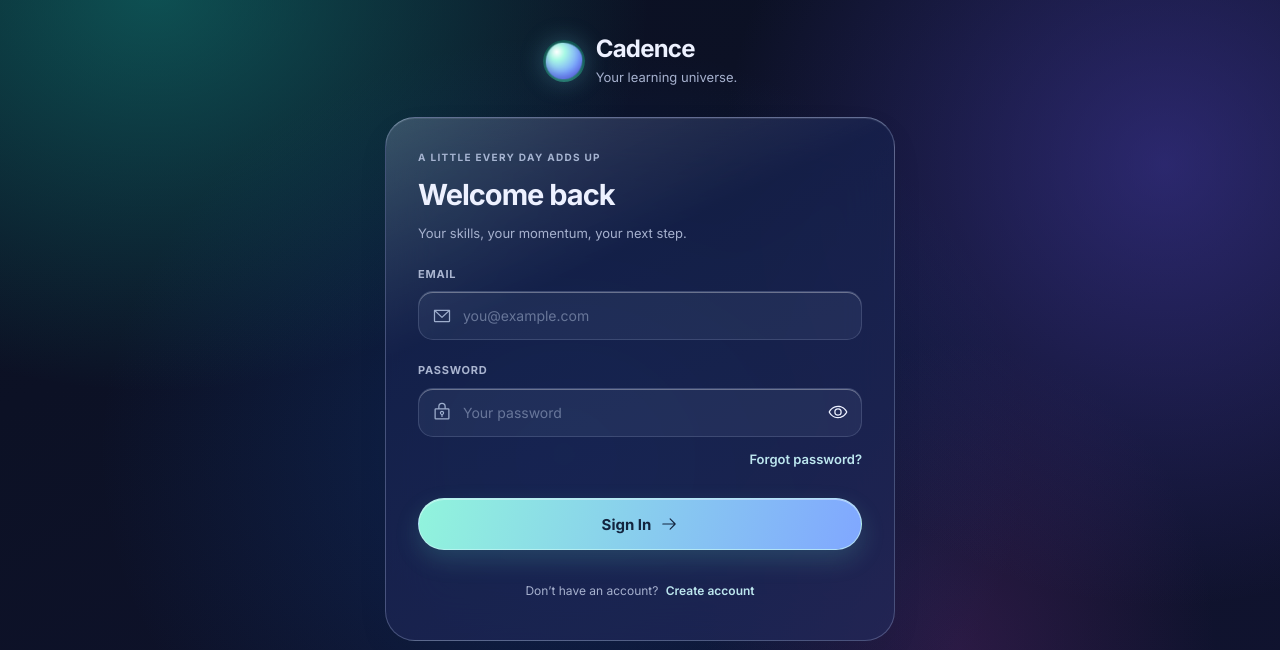
Test: Supabase authentication flows › rejects mismatching signup passwords before an auth request
This screenshot has width=1280, height=650.
Expected: the button "Sign In" is shown, [418,498,862,550]
Click the button "Create account": (710, 591) [666,574,755,608]
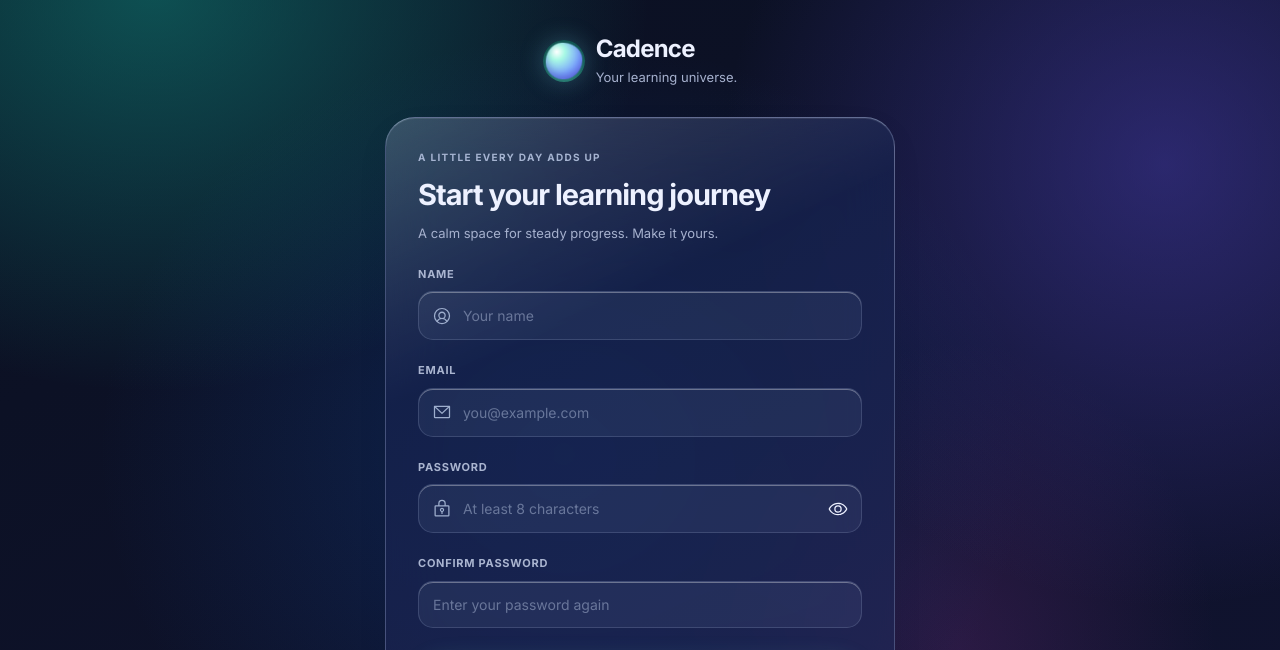
In the field labelled "NAME": (640, 316) [418,291,862,340], type "User"
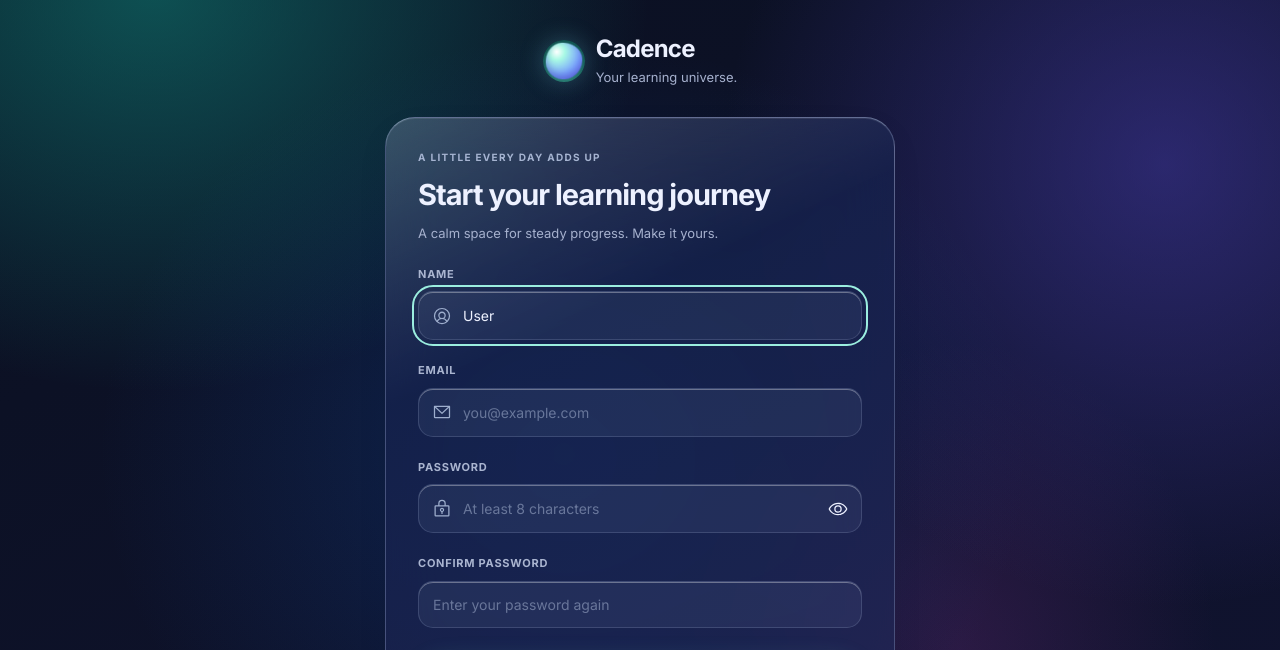
In the field labelled "EMAIL": (640, 412) [418,388,862,437], type "user@example.test"
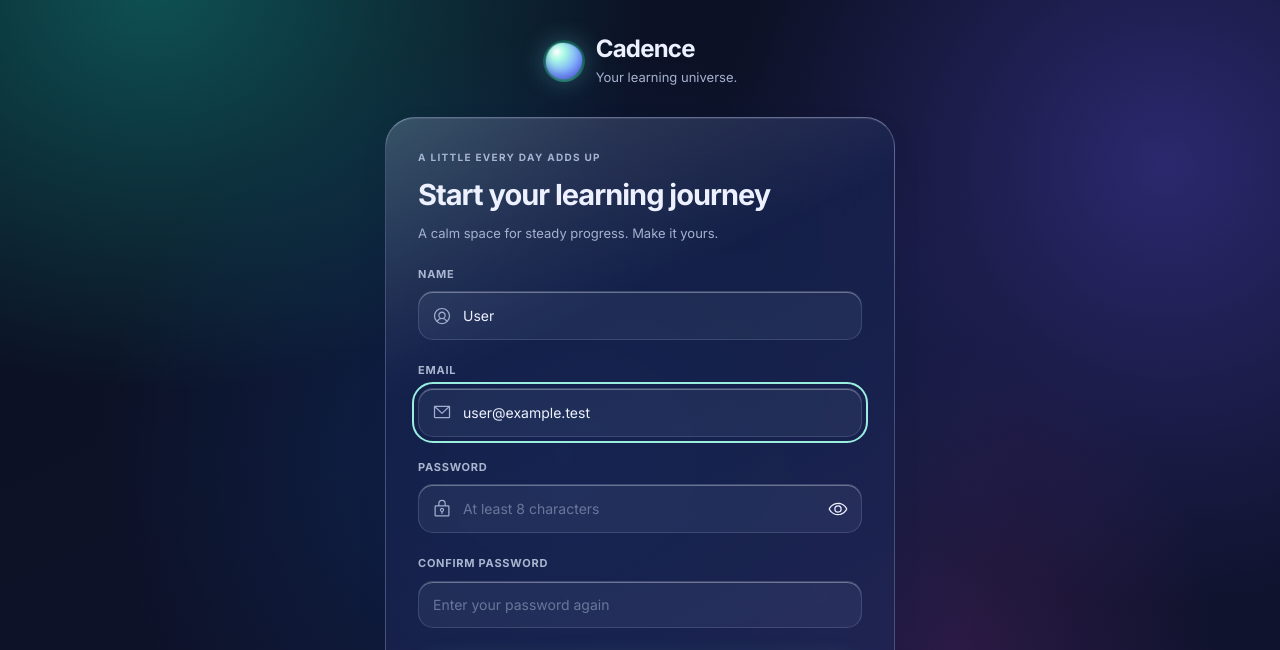
In the password field labelled "PASSWORD": (640, 509) [418,484,862,533], type "secure-password"
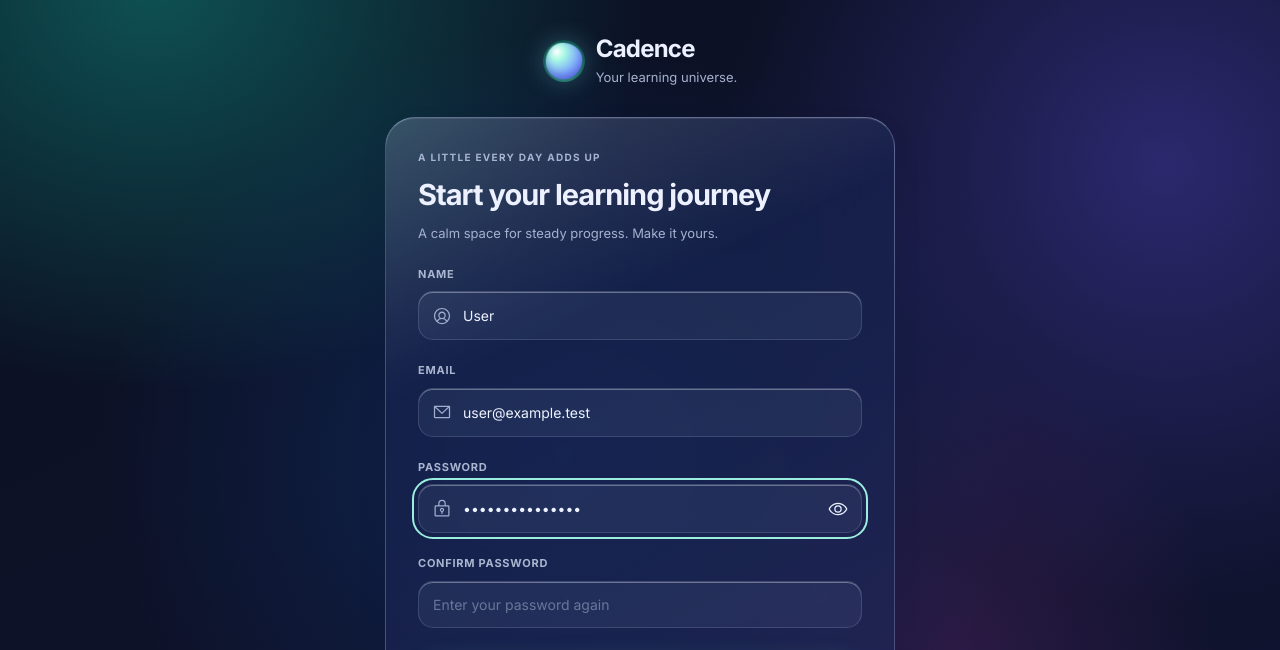
In the password field labelled "CONFIRM PASSWORD": (640, 604) [418,581,862,628], type "different-password"
(page scrolled)
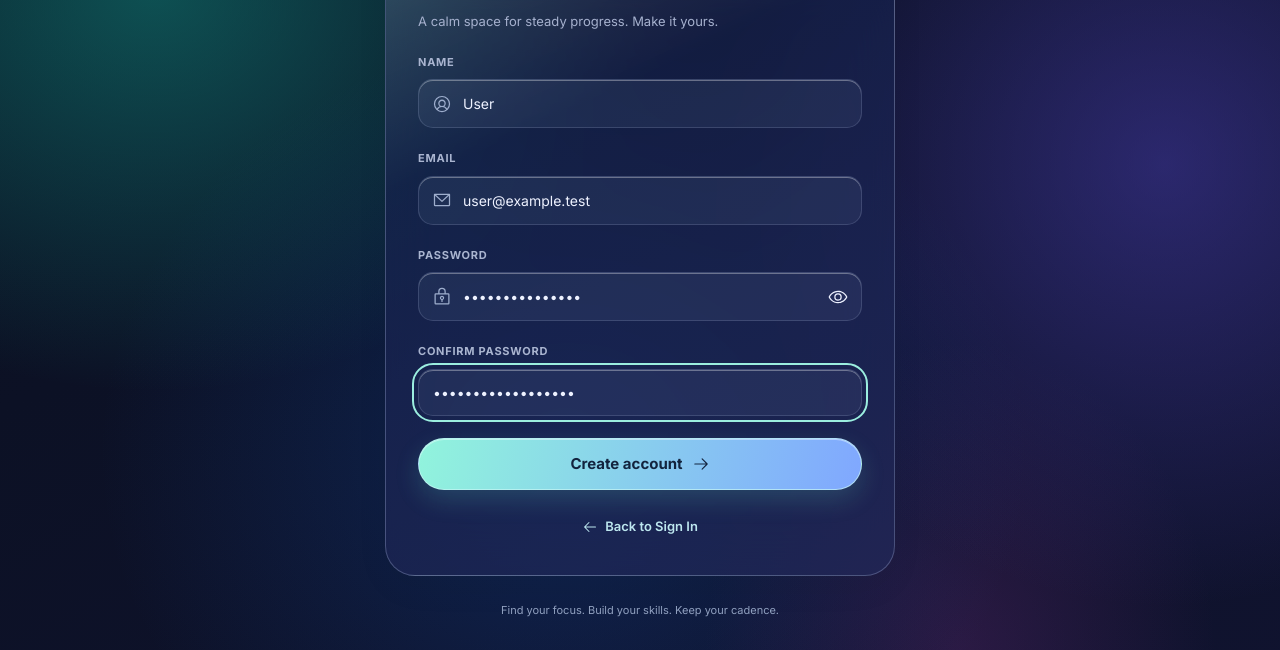
Click the button "Create account": (640, 464) [418,438,862,490]
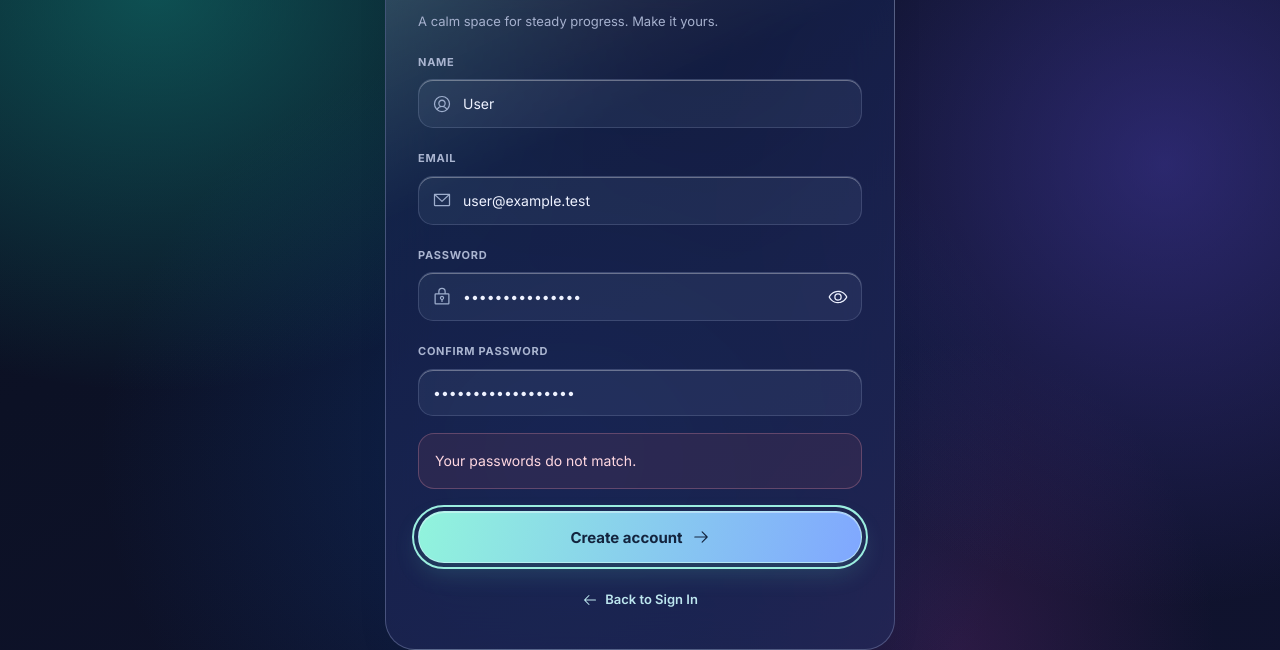
Now the message shows "do not match", box [435,452,636,469]
